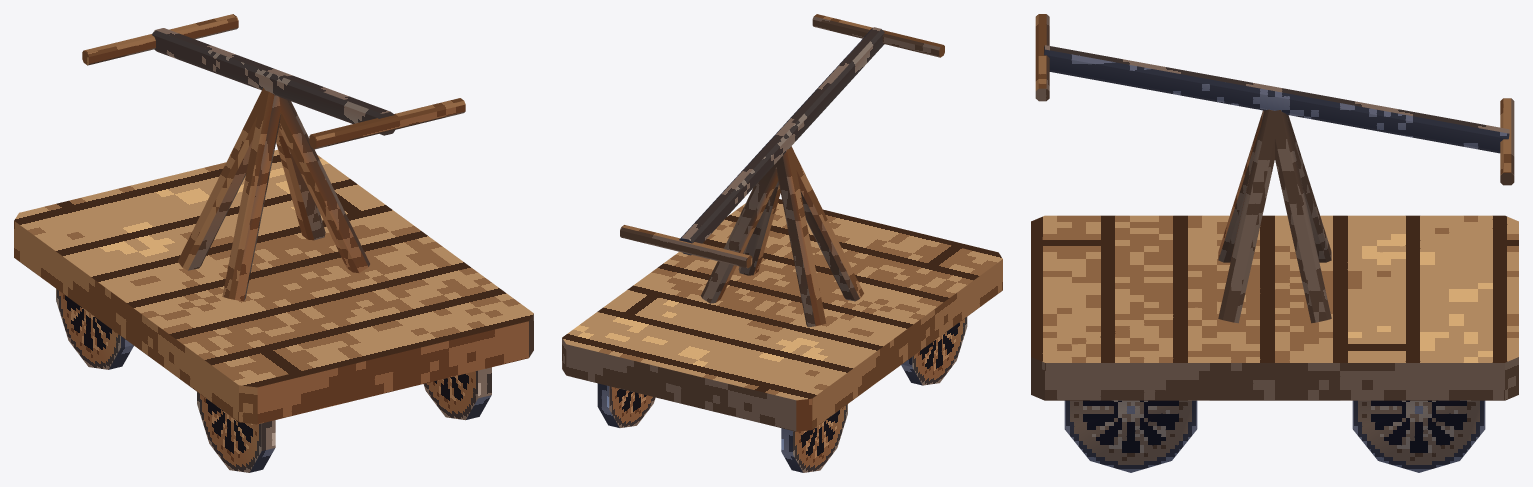
File: wrail.handcar__pumped.glb
3 views of the same model, side by side, from view 1: azimuth 30°, elevation 25°; view 2: azimuth 150°, elevation 25°; view 3: azimuth 270°, elevation 25° (orthographic). The views are drawn at different scales.
Parts seen in each view (by area): view 1: kit_frame, kit_aframe, kit_wheels, kit_lever, kit_handles; view 2: kit_frame, kit_aframe, kit_wheels, kit_lever, kit_handles; view 3: kit_frame, kit_wheels, kit_lever, kit_aframe, kit_handles.
Boxes of the visible parts, x1,y1,x2,y2 form: kit_frame: (14,149,533,424); kit_aframe: (177,88,369,301); kit_wheels: (56,289,491,472); kit_lever: (152,28,394,135); kit_handles: (82,14,465,149); kit_frame: (562,199,1002,431); kit_aframe: (701,146,863,327); kit_wheels: (597,317,967,472); kit_lever: (679,27,884,255); kit_handles: (620,14,944,268); kit_frame: (1031,215,1518,400); kit_wheels: (1064,400,1485,472); kit_lever: (1044,45,1509,153); kit_aframe: (1218,109,1331,323); kit_handles: (1035,14,1514,185).
Bounding box in the file's own units: 1.5 × 1.75 × 2.1.
4 materials, 4 textured.
